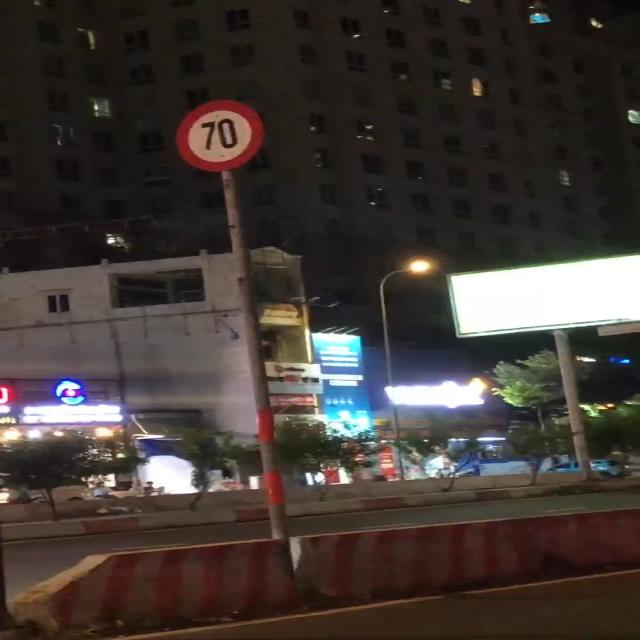Bien bao toc do toi da cho phep: (172, 96, 266, 174)
